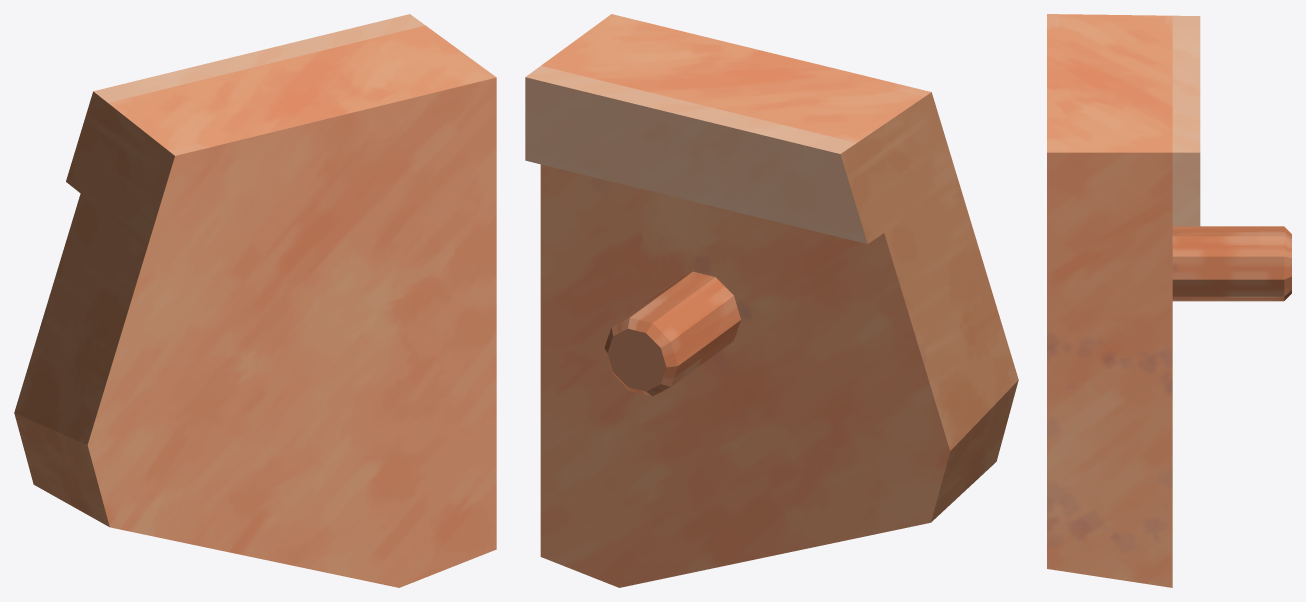
File: wall2_upper_window_s06.fbx
The picture shows the model from 3 angles, left to right: view 1: azimuth 30°, elevation 25°; view 2: azimuth 150°, elevation 25°; view 3: azimuth 270°, elevation 25°; orthographic projection. The views are drawn at different scales.
Parts seen in each view (by area): view 1: wall2_upper_window_s06; view 2: wall2_upper_window_s06; view 3: wall2_upper_window_s06.
Boxes of the visible parts, x1,y1,x2,y2 form: wall2_upper_window_s06: [14, 14, 496, 587]; wall2_upper_window_s06: [525, 14, 1018, 587]; wall2_upper_window_s06: [1047, 14, 1291, 587].
Bounding box in the file's own units: 3.34 × 3.92 × 1.95.
